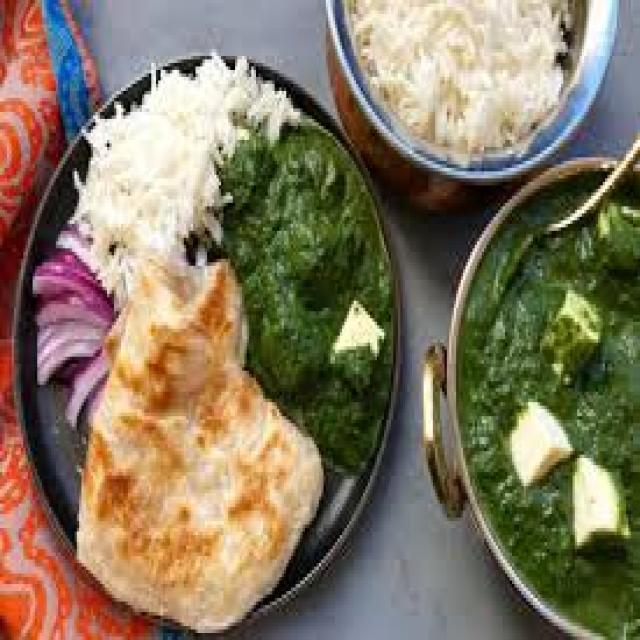Palak Paneer: (452, 159, 640, 640), (213, 109, 400, 488)
